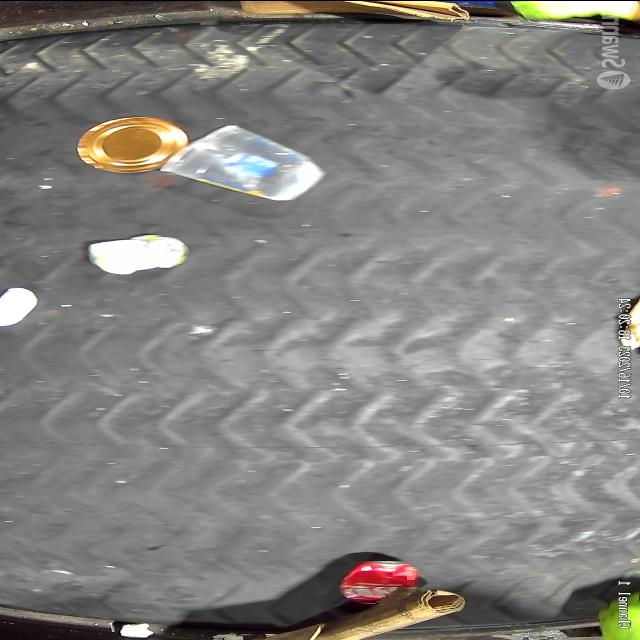can: (77, 116, 188, 172), (88, 232, 188, 274), (340, 558, 418, 604)
